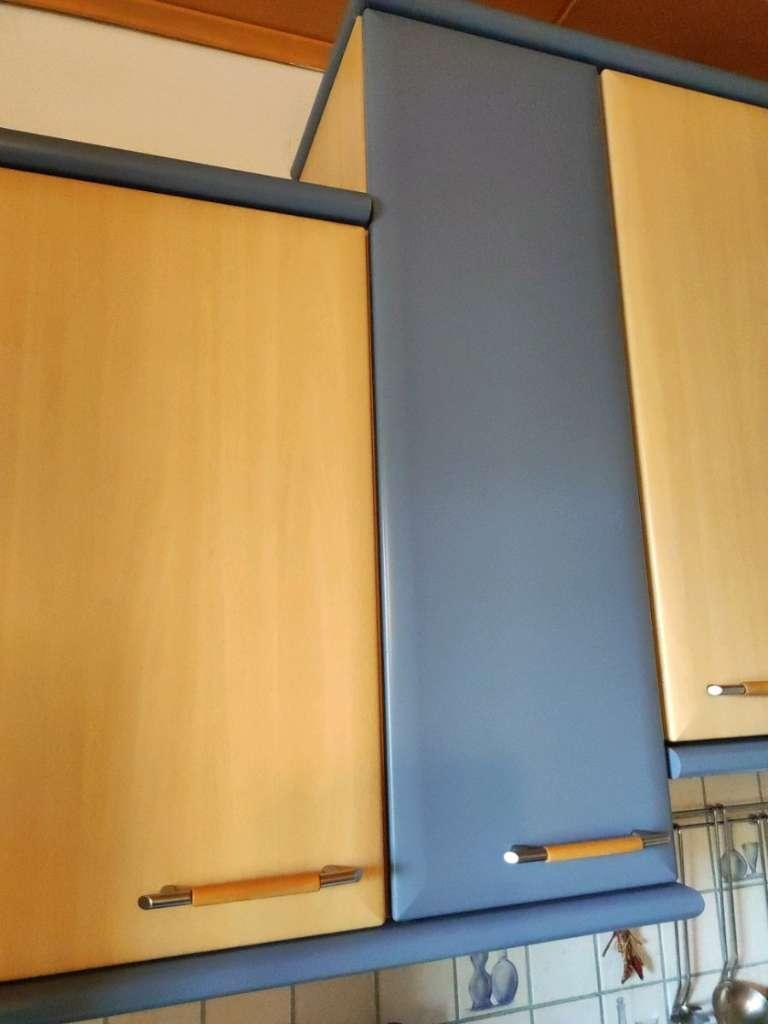cabinet_door: (0, 185, 380, 957), (377, 38, 652, 913), (635, 89, 767, 729)
handle: (133, 845, 377, 922), (492, 810, 677, 882), (697, 668, 768, 710)
